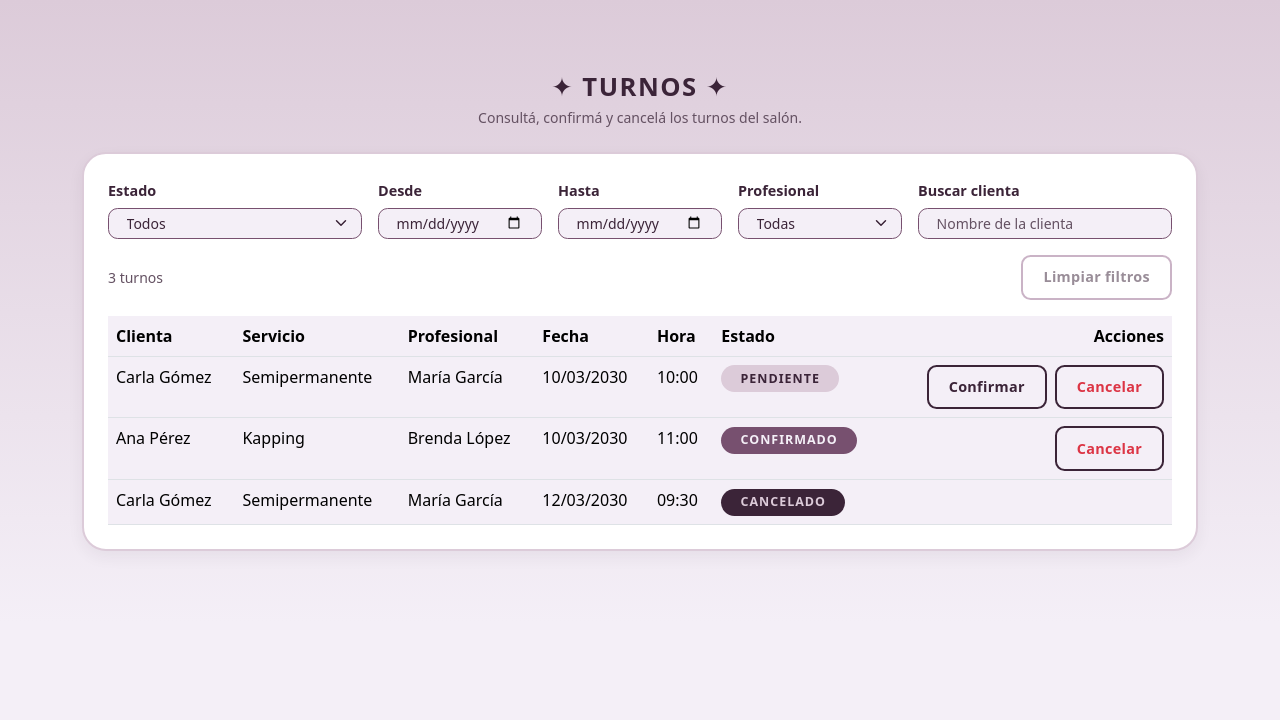
AdminTurnos — filtros combinables › busca por nombre de clienta (sin distinguir mayúsculas)
The width and height of the screenshot is (1280, 720).
Type "ANA" into the search field labelled "Buscar clienta".
click(1045, 223); type("ANA")  # box [918,208,1172,239]
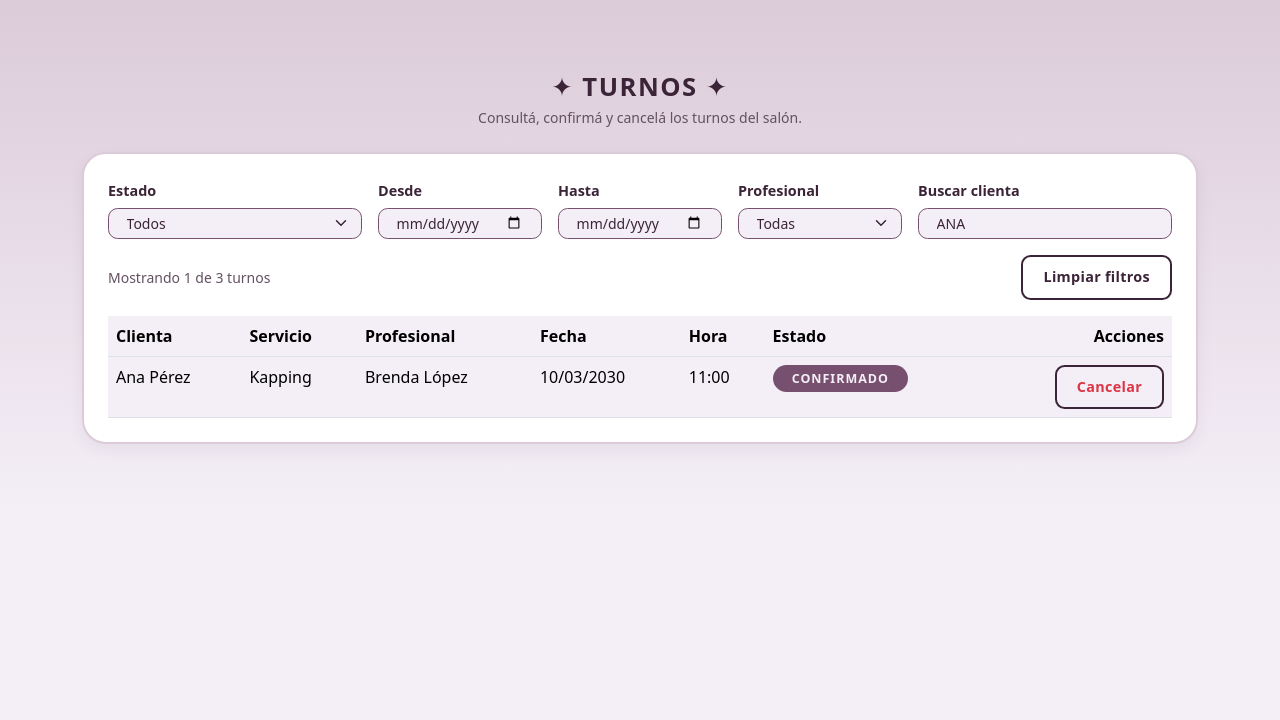
Expected: the text "Ana Pérez" is shown, [108,356,241,418]
Now the text "Carla Gómez" is gone
Now the text "Mostrando 1 de 3 turnos" is shown, box [108,267,270,288]
